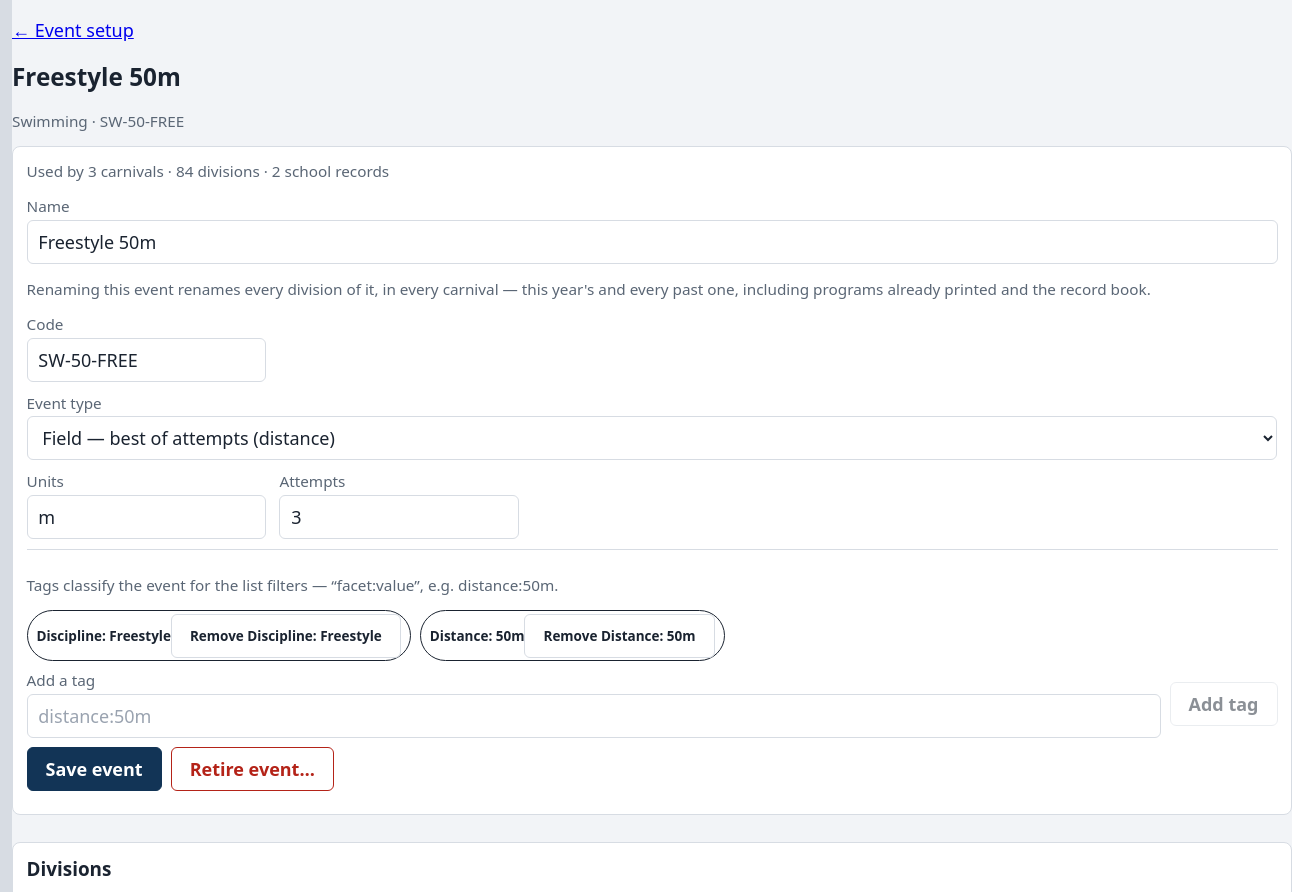
it: EventEditorScreen › empties the Attempts field when the type is switched to a bar ladder
Expected: the number field labelled "Attempts" holds "3", [279,495,519,539]
Select "Field — bar ladder (vertical jump)" in the dropdown labelled "Event type" at [652, 438], box [26,416,1278,460]
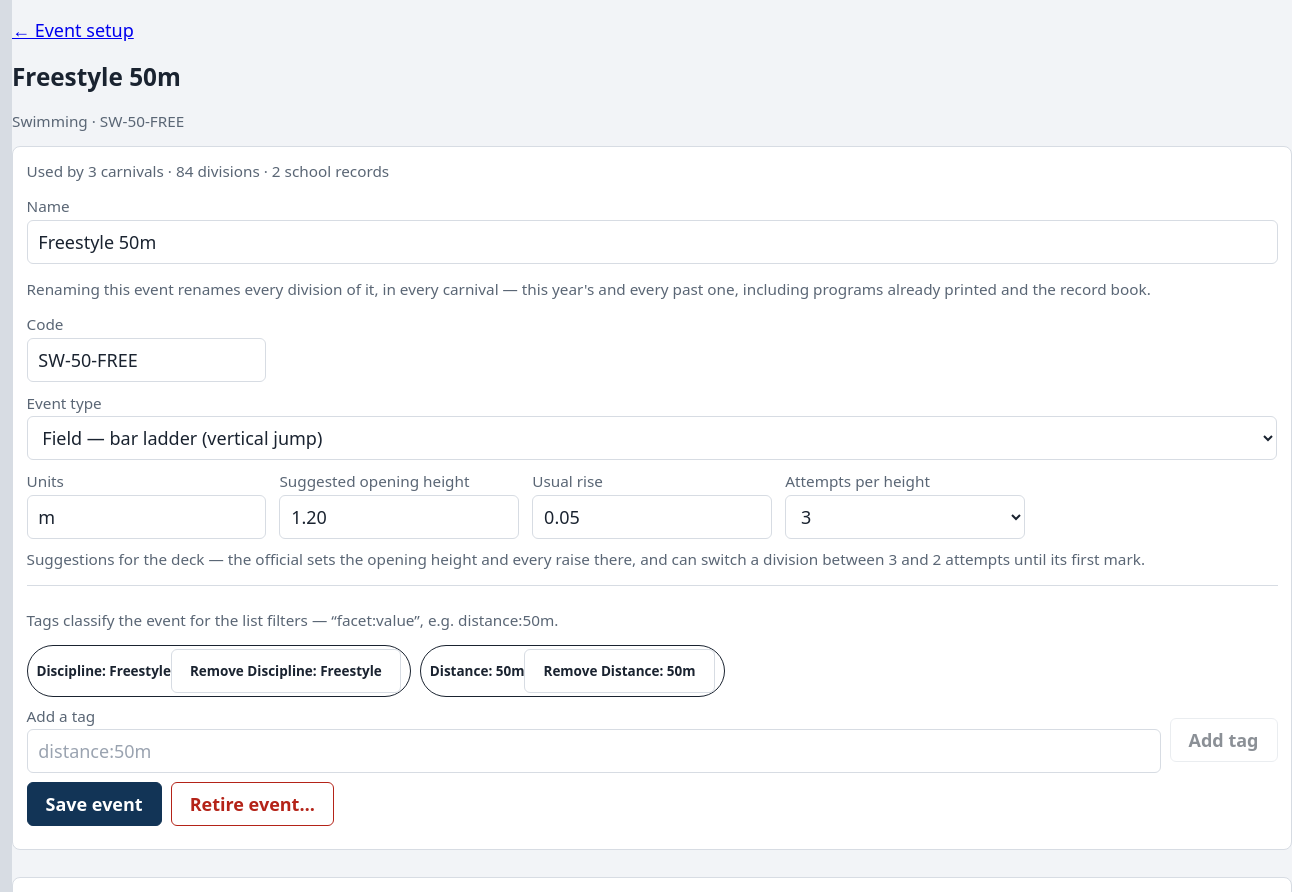
Select "Field — best of attempts (distance)" in the dropdown labelled "Event type" at [652, 438], box [26,416,1278,460]
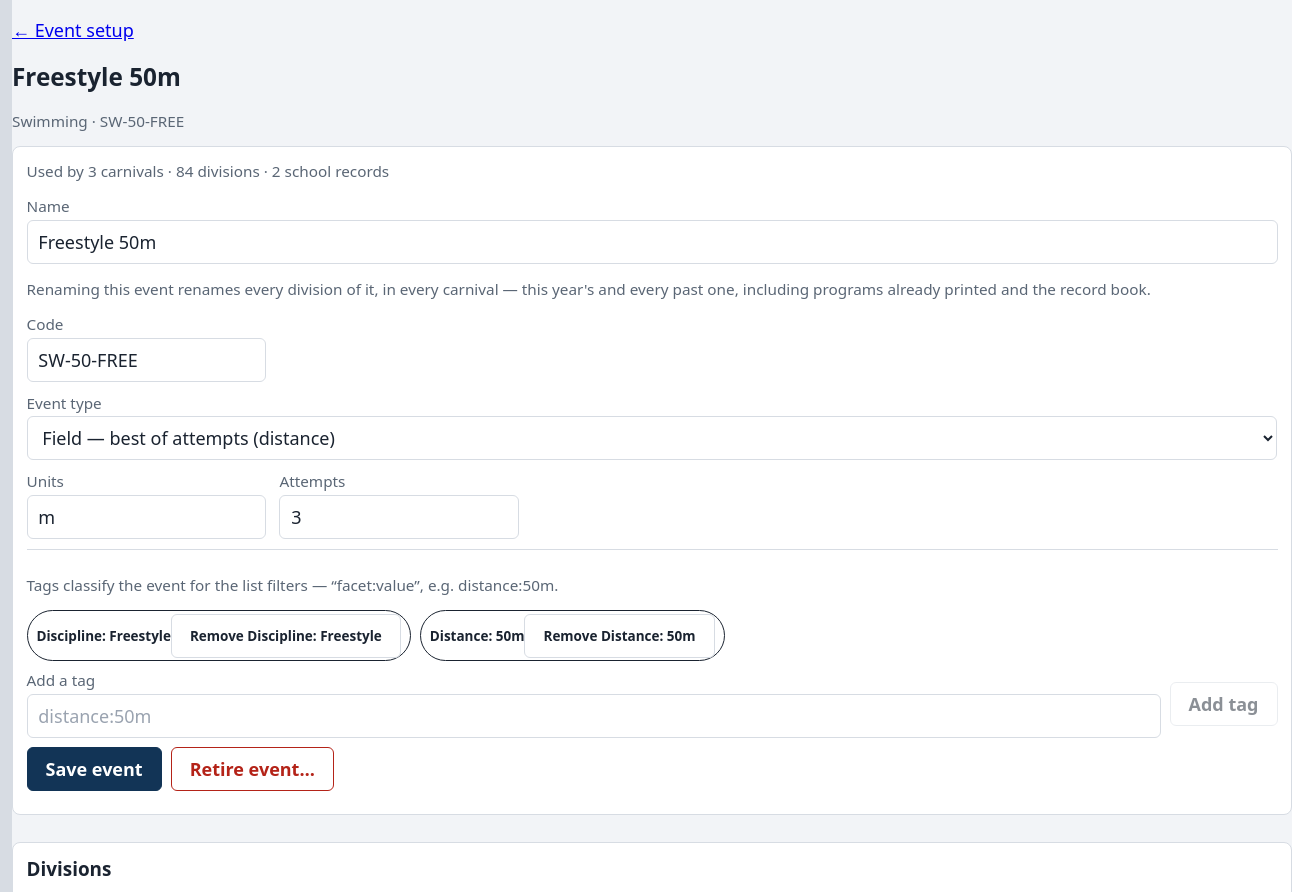
Expected: the number field labelled "Attempts" holds "3", [279,495,519,539]
